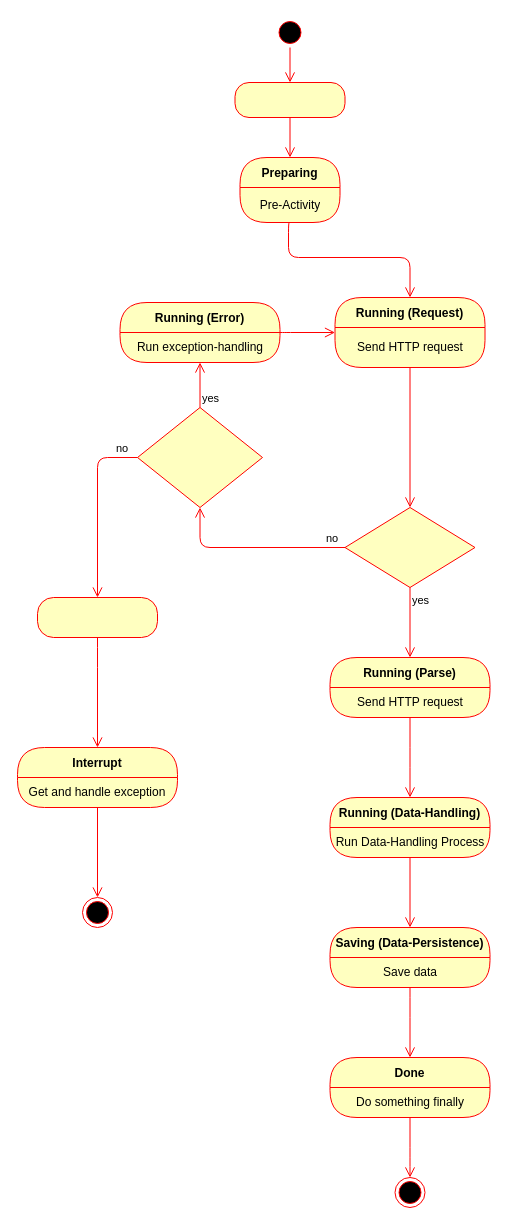
Image size: 508x1225. Some labels were removed from this diagram. The centre of each missing label's shape, as x and y in pixels:
"Get HTTP response without any error" belongs at (x=409, y=547).
"Handling URLs" belongs at (x=289, y=100).
"Has Retry-Mechanism to run or running timeout" belongs at (x=199, y=457).
"Raise exception" belongs at (x=97, y=617).
